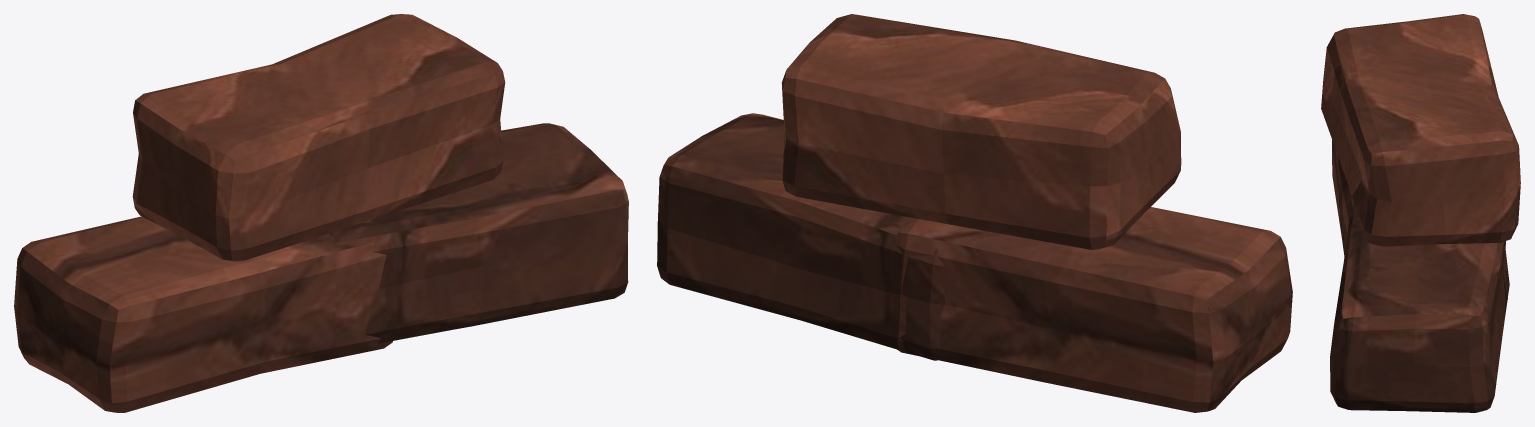
Rendered from clay_brick.glb.
3 renders of one model, left to right at view 1: azimuth 30°, elevation 25°; view 2: azimuth 150°, elevation 25°; view 3: azimuth 270°, elevation 25°, orthographic. The views are drawn at different scales.
Parts seen in each view (by area): view 1: model; view 2: model; view 3: model.
Boxes of the visible parts, x1,y1,x2,y2 form: model: (14,14,628,412); model: (657,14,1292,412); model: (1321,14,1520,412).
Size of the model in its own units: 0.3572 by 0.1607 by 0.1263.
Materials: 3 (3 with a texture image).
